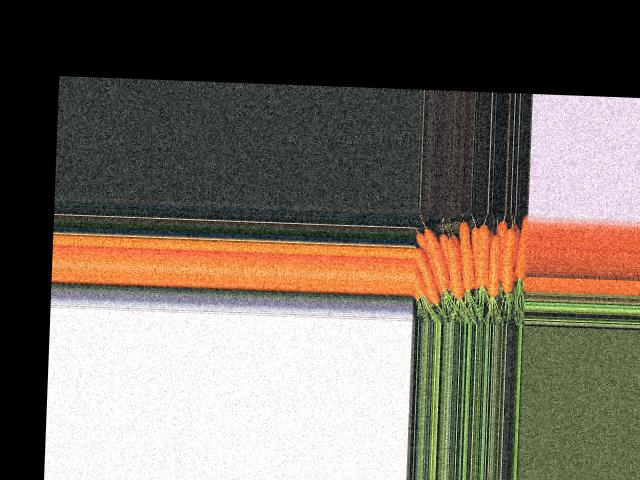carrot: (421, 242, 435, 303)
